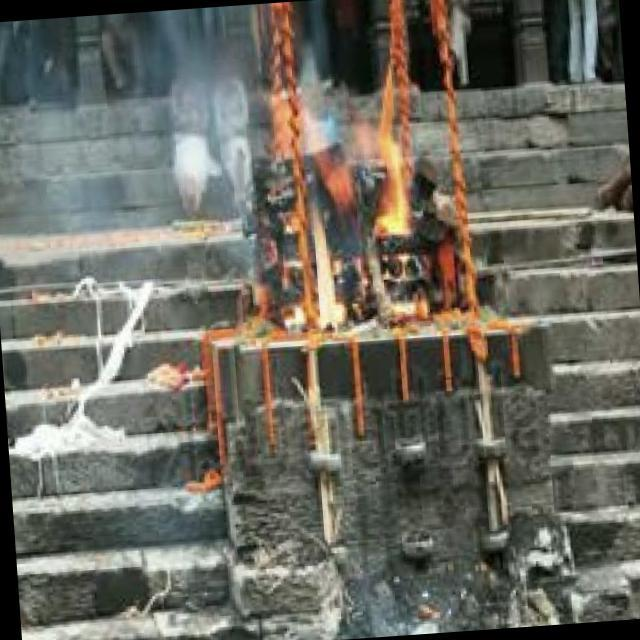Fire: (280, 78, 425, 338)
